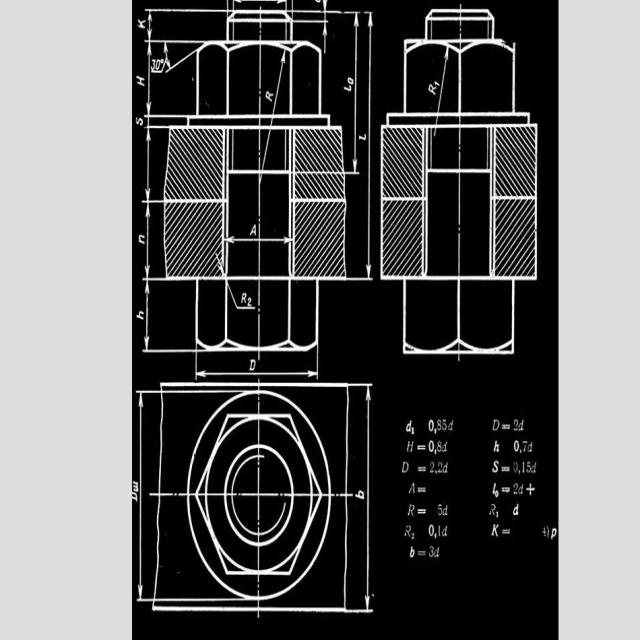marking_line: (364, 15, 374, 277), (137, 394, 145, 600), (364, 387, 370, 610), (352, 14, 360, 171), (198, 371, 316, 377), (144, 280, 153, 349), (144, 203, 152, 277), (145, 43, 153, 114), (145, 129, 152, 202), (147, 12, 154, 37)
numeric: (427, 417, 458, 436), (427, 524, 451, 540), (514, 438, 534, 455), (512, 461, 539, 473), (429, 439, 451, 453), (430, 462, 450, 476), (512, 479, 526, 498), (512, 418, 526, 434), (428, 544, 441, 558), (437, 504, 449, 518)
special_symbol: (229, 285, 256, 312)
